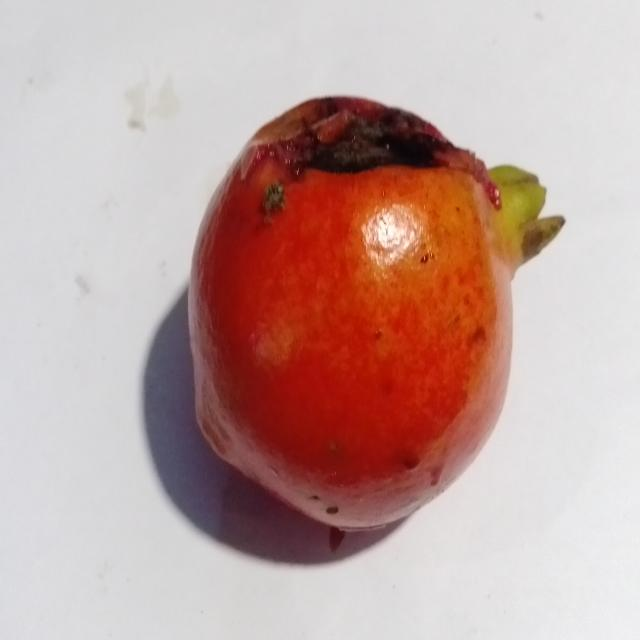Rotten: (180, 92, 569, 536)
